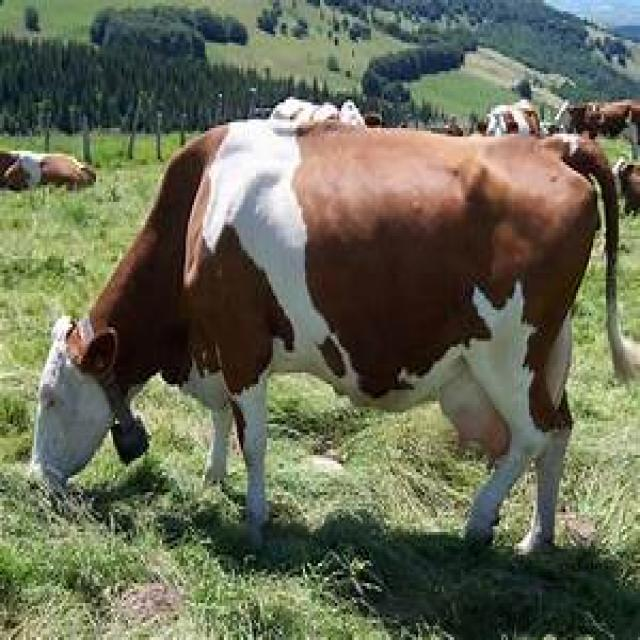cow: (32, 102, 640, 558), (0, 148, 96, 191)
